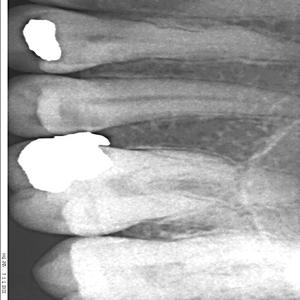tooth: (9, 137, 199, 237), (14, 3, 231, 75), (30, 234, 246, 300), (12, 72, 212, 137)
